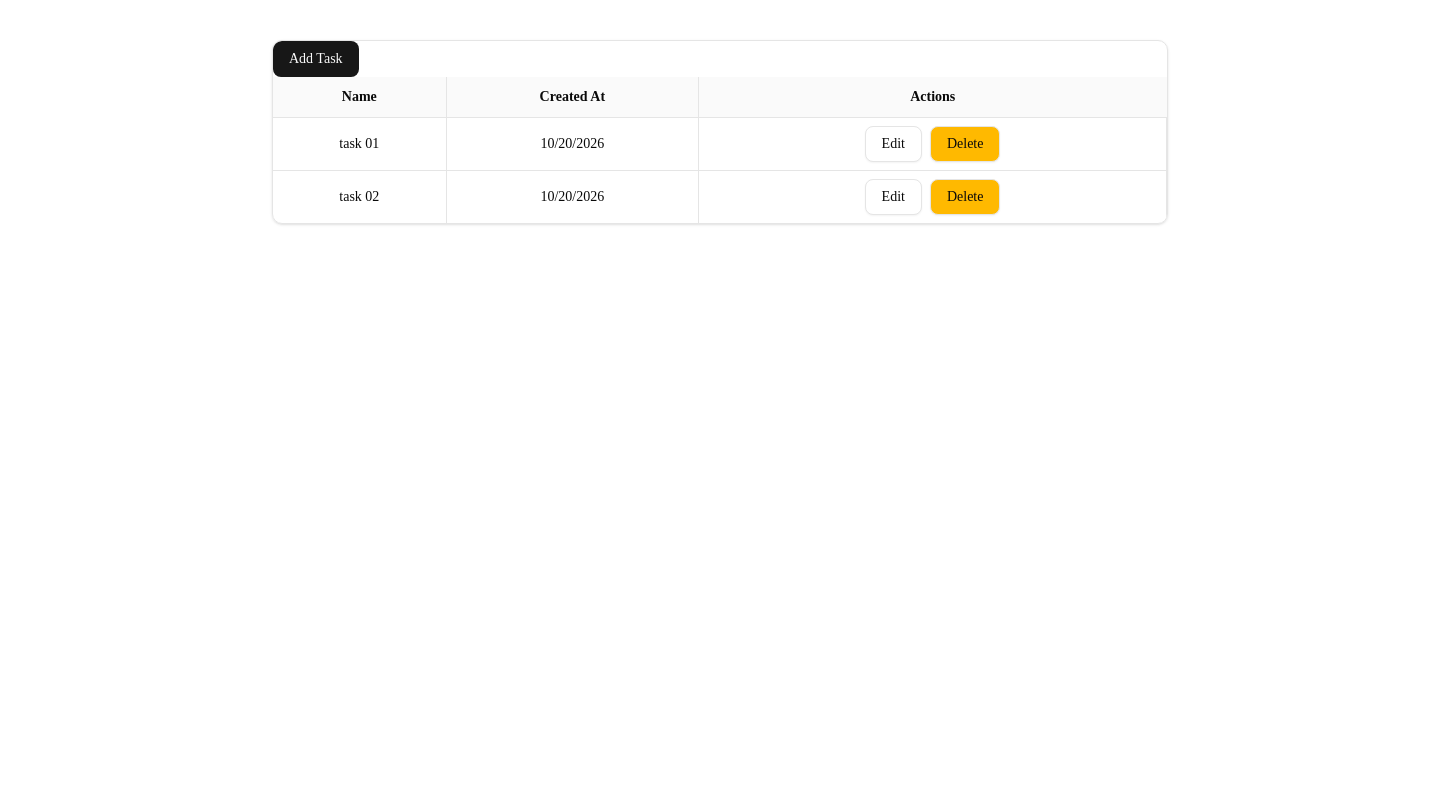
it: Task Table › opens edit task form when user select specfic task
The image size is (1440, 810).
Click the button "Edit" in the row of "task 01" at point(893, 144), box [865, 126, 922, 162]
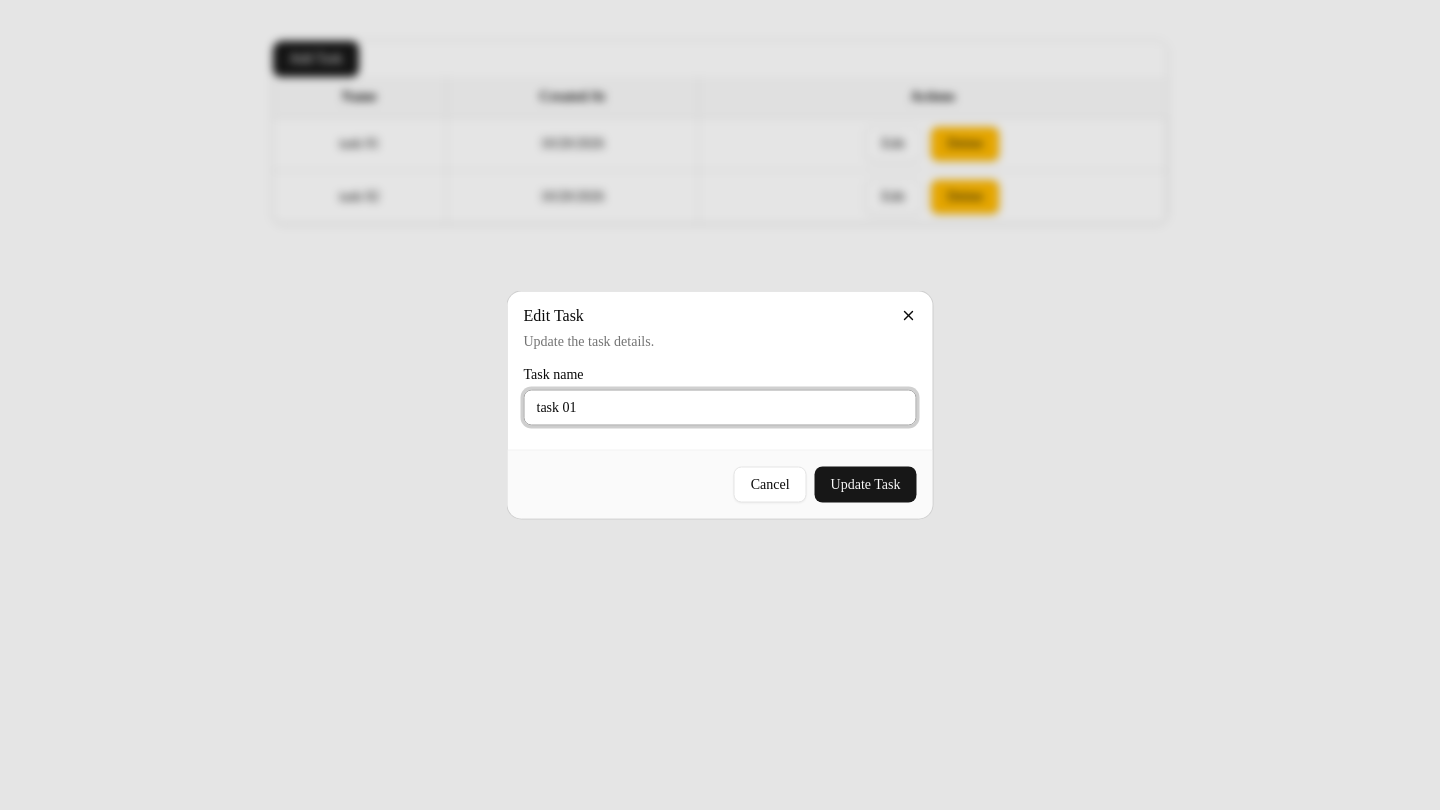
Now the heading "Edit Task" is shown, box [524, 306, 584, 324]
Now the field labelled "Task name" holds "task 01", box [524, 390, 916, 426]
